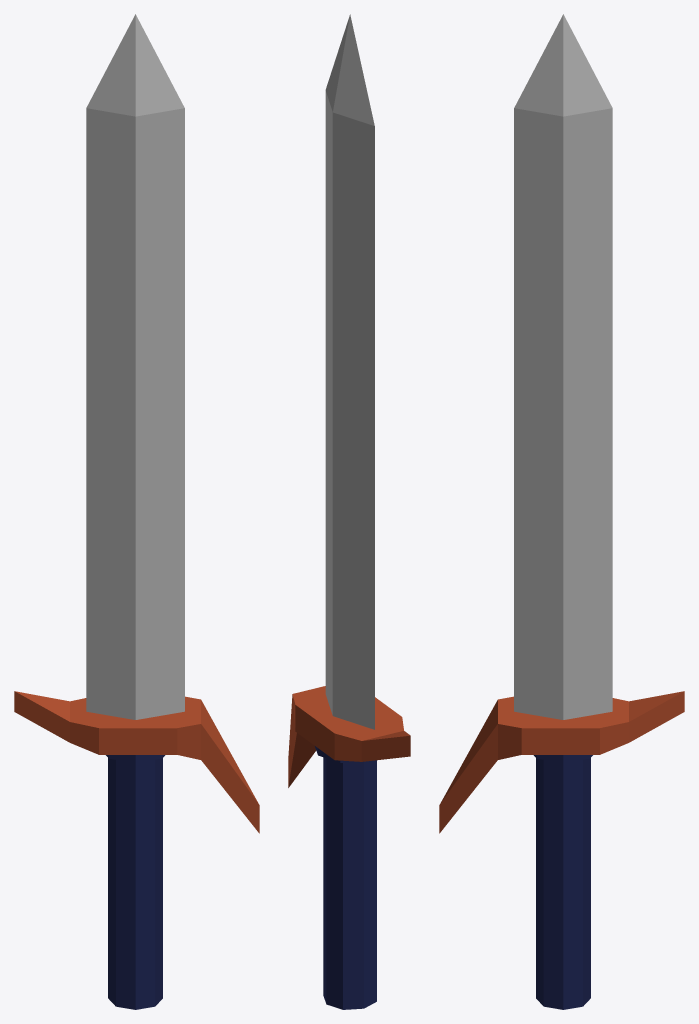
File: DualSword.fbx
3 renders of one model, left to right at view 1: azimuth 90°, elevation 25°; view 2: azimuth 210°, elevation 25°; view 3: azimuth 270°, elevation 25°, orthographic.
Parts seen in each view (by area): view 1: Куб.001, Куб, Куб.003; view 2: Куб.001, Куб, Куб.003; view 3: Куб.001, Куб, Куб.003.
Boxes of the visible parts, x1,y1,x2,y2 form: Куб.001: (86, 14, 184, 719); Куб: (106, 755, 165, 1009); Куб.003: (14, 691, 259, 833); Куб.001: (325, 14, 374, 729); Куб: (315, 746, 376, 1009); Куб.003: (288, 686, 410, 787); Куб.001: (514, 14, 612, 719); Куб: (533, 755, 592, 1009); Куб.003: (439, 691, 684, 833).
Bounding box in the file's own units: 29.65 × 413 × 93.07.
